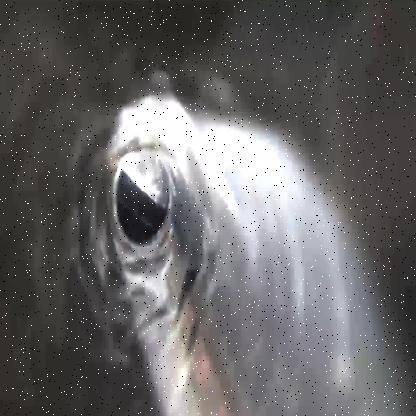Crack: (70, 85, 215, 353)
